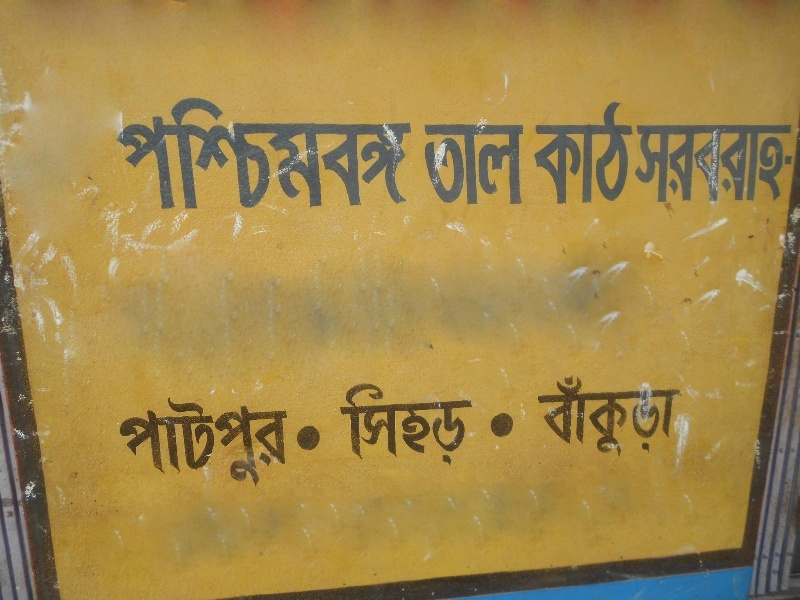text: (401, 95, 417, 209), (129, 95, 144, 209), (145, 95, 160, 209), (161, 95, 176, 209), (177, 95, 192, 209), (193, 95, 208, 209), (209, 95, 224, 209), (225, 95, 240, 209), (241, 95, 256, 209), (257, 95, 272, 209), (273, 95, 288, 209), (289, 95, 304, 209), (305, 95, 320, 209), (321, 95, 336, 209), (337, 95, 352, 209), (353, 95, 368, 209), (369, 95, 384, 209), (385, 95, 400, 209), (545, 101, 560, 205), (561, 101, 576, 205), (577, 101, 592, 205), (593, 101, 608, 205), (609, 101, 624, 205), (115, 95, 128, 209), (433, 119, 448, 210), (449, 119, 464, 210), (465, 119, 480, 210), (481, 119, 496, 210), (497, 119, 512, 210), (513, 119, 528, 210), (129, 397, 144, 488), (145, 397, 160, 488), (161, 397, 176, 488), (177, 397, 192, 488), (193, 397, 208, 488), (209, 397, 224, 488), (225, 397, 240, 488), (241, 397, 256, 488), (257, 397, 272, 488), (273, 397, 288, 488), (641, 122, 656, 206), (657, 122, 672, 206), (673, 122, 688, 206), (689, 122, 704, 206), (705, 122, 720, 206), (721, 122, 736, 206), (737, 122, 752, 206), (753, 122, 768, 206), (769, 122, 784, 206), (532, 101, 544, 205), (545, 376, 560, 459), (561, 376, 576, 459), (577, 376, 592, 459), (593, 376, 608, 459), (609, 376, 624, 459), (625, 376, 640, 459), (641, 376, 656, 459), (657, 376, 672, 459), (337, 384, 352, 466), (353, 384, 368, 466), (369, 384, 384, 466), (385, 384, 400, 466), (401, 384, 416, 466), (417, 384, 432, 466), (433, 384, 448, 466), (449, 384, 464, 466), (625, 101, 636, 205), (420, 119, 432, 210), (118, 397, 128, 488), (465, 384, 474, 466), (785, 122, 793, 206), (673, 376, 681, 459), (537, 376, 544, 459), (635, 122, 640, 206), (289, 397, 290, 488)
